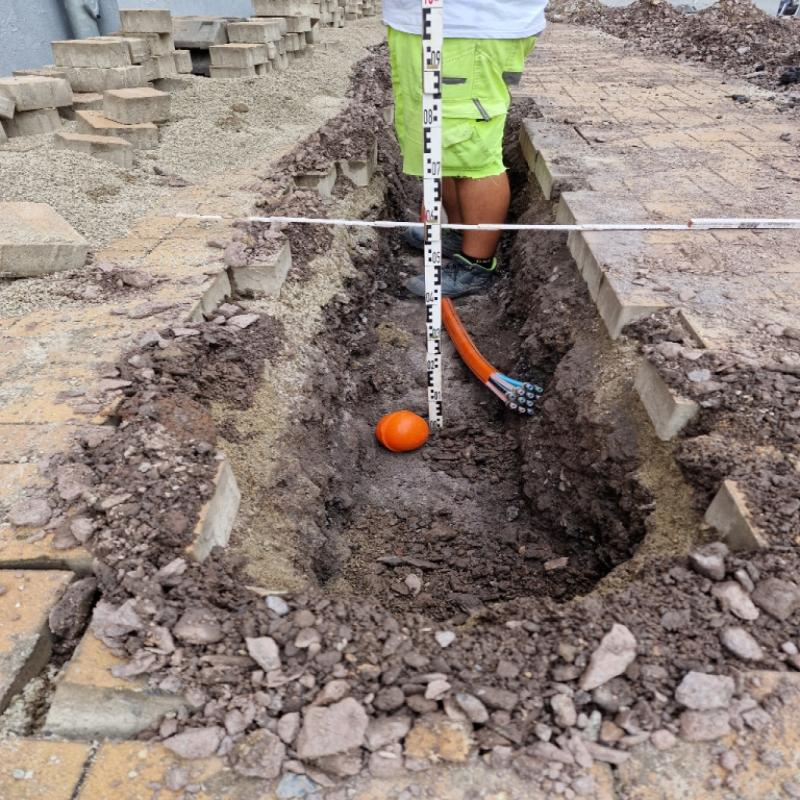Kugelmarker: (377, 411, 428, 450)
Orang-Speednetrohrchen: (440, 298, 544, 415)
